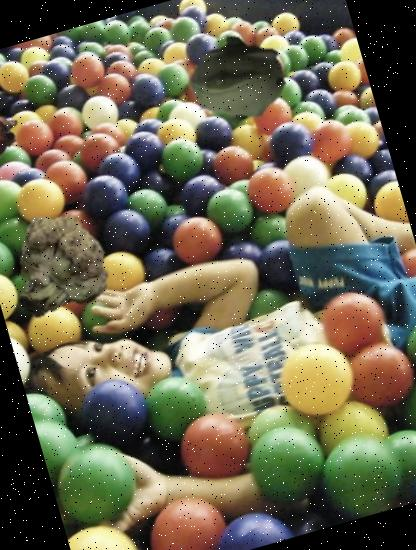Cauliflower: (0, 201, 119, 328)
Kohlrabi: (178, 21, 298, 140)
Mangostan: (0, 100, 27, 169)
